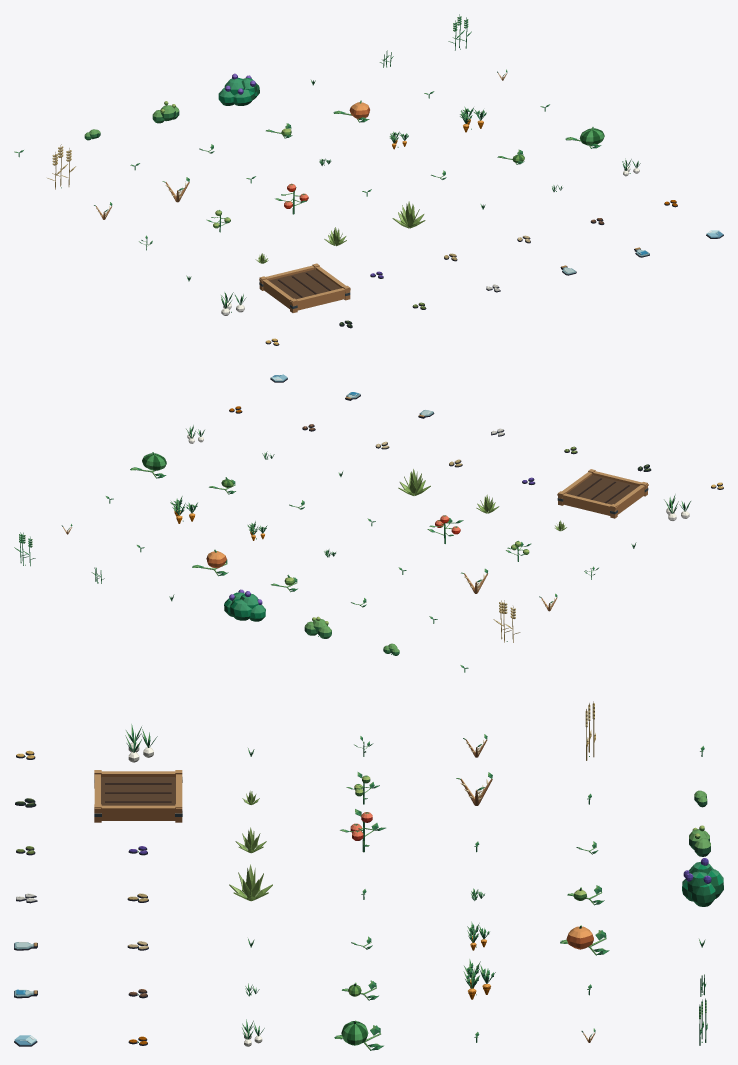
The model's file is farming-pack.fbx.
3 renders of one model, top to bottom at view 1: azimuth 30°, elevation 25°; view 2: azimuth 150°, elevation 25°; view 3: azimuth 270°, elevation 25°, orthographic. The views are drawn at different scales.
Parts seen in each view (by area): view 1: planter_box__Frame, planter_box__Soil, berry_stage_04__Foliage; view 2: planter_box__Frame, planter_box__Soil, berry_stage_04__Foliage; view 3: planter_box__Frame, planter_box__Soil, berry_stage_04__Foliage, aloe_vera_stage_04.
Boxes of the visible parts, left/top/right/bottom form: planter_box__Frame: left=259, top=263, right=350, bottom=312; planter_box__Soil: left=269, top=269, right=340, bottom=299; berry_stage_04__Foliage: left=218, top=77, right=259, bottom=105; planter_box__Frame: left=557, top=469, right=648, bottom=518; planter_box__Soil: left=567, top=475, right=638, bottom=504; berry_stage_04__Foliage: left=224, top=592, right=265, bottom=621; planter_box__Frame: left=94, top=770, right=182, bottom=822; planter_box__Soil: left=101, top=777, right=175, bottom=805; berry_stage_04__Foliage: left=682, top=861, right=723, bottom=906; aloe_vera_stage_04: left=229, top=864, right=272, bottom=901.
Size of the model in its own units: 32.14 by 2.82 by 31.49.
1 material, 1 textured.
